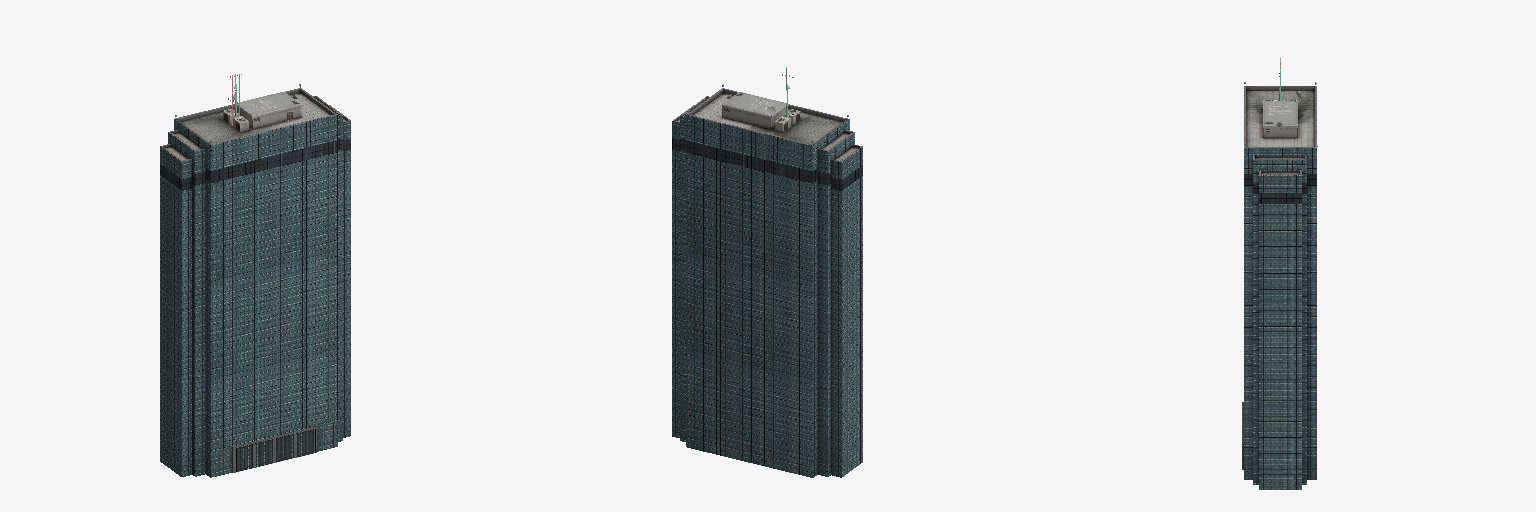
The picture shows the model from 3 angles: view 1: azimuth 30°, elevation 25°; view 2: azimuth 150°, elevation 25°; view 3: azimuth 270°, elevation 25°; orthographic projection.
Visible parts, largest first — view 1: skyscraper01; view 2: skyscraper01; view 3: skyscraper01.
Part boxes in pixels (x1,y1,x2,y2): skyscraper01: (160,88,350,477); skyscraper01: (672,88,862,477); skyscraper01: (1242,86,1316,489).
Size of the model in its own units: 84.76 by 185 by 32.81.
Materials: 6 (3 with a texture image).